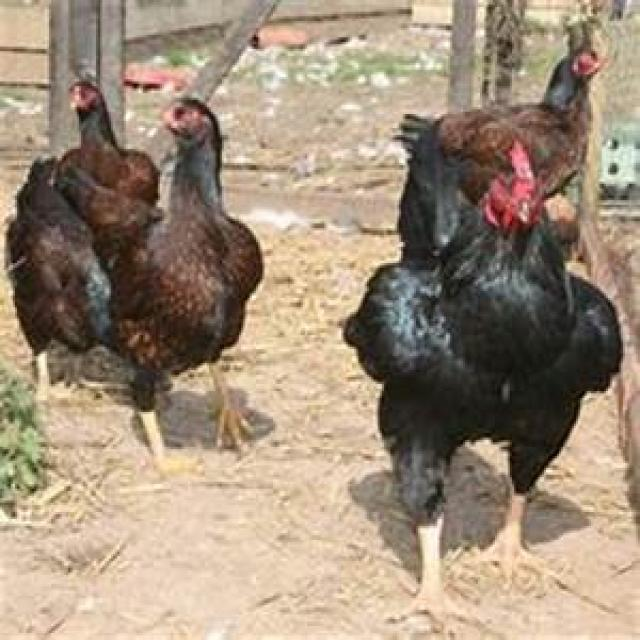animal: (344, 157, 630, 535), (147, 87, 278, 502), (14, 69, 136, 514), (375, 42, 640, 162), (136, 74, 139, 94)
